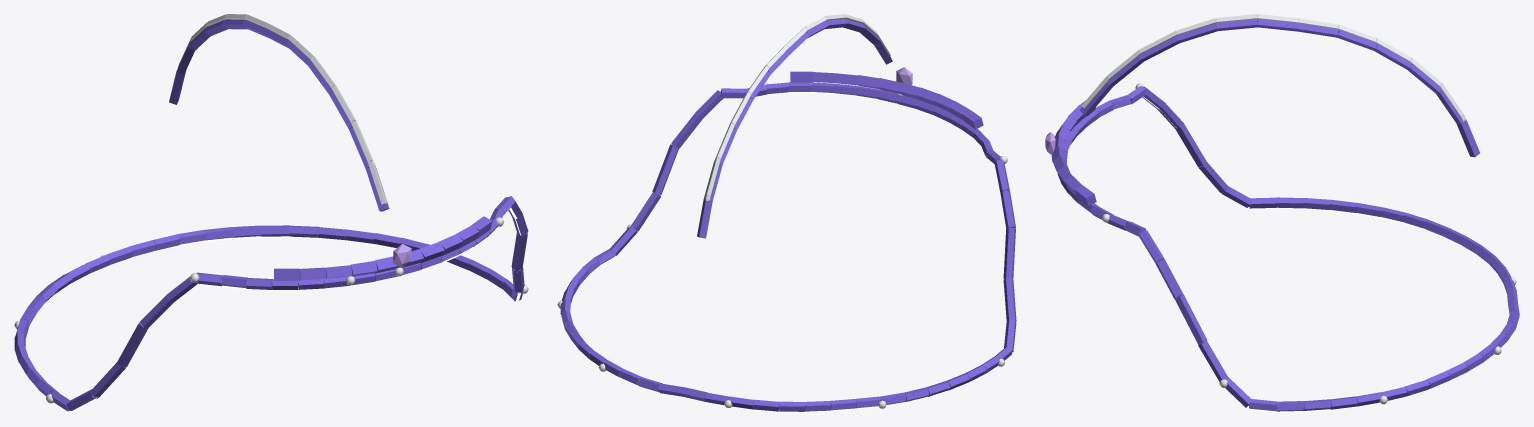
The model's file is HelmTrim_Starlight.fbx.
3 renders of one model, left to right at view 1: azimuth 30°, elevation 25°; view 2: azimuth 150°, elevation 25°; view 3: azimuth 270°, elevation 25°, orthographic. The views are drawn at different scales.
Visible parts, largest first — view 1: HelmTrim_Starlight; view 2: HelmTrim_Starlight; view 3: HelmTrim_Starlight.
Part boxes in pixels (box(x1,y1,x2,y2)): HelmTrim_Starlight: box(14, 14, 528, 412); HelmTrim_Starlight: box(557, 14, 1016, 412); HelmTrim_Starlight: box(1045, 14, 1519, 412).
Size of the model in its own units: 0.6384 by 0.42 by 0.6083.
